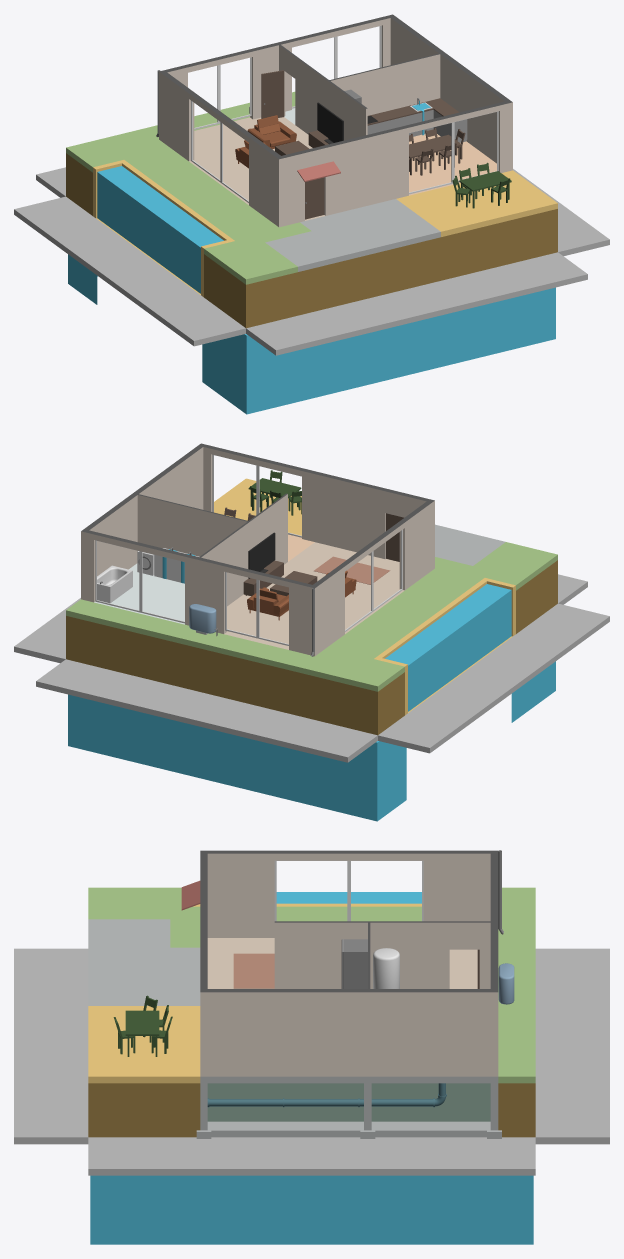
Rendered from POC_Maquette_v2.glb.
3 views of the same model, one above another, from view 1: azimuth 30°, elevation 25°; view 2: azimuth 150°, elevation 25°; view 3: azimuth 270°, elevation 25° (orthographic). The views are drawn at different scales.
Visible parts, largest first — view 1: Terrain, Bordure_maquette, Murs, Eau_exterieur, Cloisons, Eau_piscine, Sol_salon, Sol_cuisine, Plans_de_travail, Piscine, Porte_entree.001, Fauteuil (+6 smaller); view 2: Terrain, Murs, Bordure_maquette, Eau_exterieur, Cloisons, Eau_piscine, Sol_salon, Sol_sdb, Piscine, Baignoire, Tapis, Fauteuil (+7 smaller); view 3: Terrain, Bordure_maquette, Murs, Eau_interieur, Cloisons, Eau_exterieur, Sol_salon, Tuyaux, Eau_piscine, Tapis, Frigo, Chauffe_eau (+4 smaller).
Part boxes in pixels (left/top/right/bottom): Terrain: left=66, top=91, right=557, bottom=328; Bordure_maquette: left=14, top=167, right=609, bottom=355; Murs: left=159, top=14, right=512, bottom=227; Eau_exterieur: left=68, top=254, right=555, bottom=414; Cloisons: left=279, top=44, right=440, bottom=140; Eau_piscine: left=97, top=166, right=223, bottom=293; Sol_salon: left=189, top=117, right=325, bottom=220; Sol_cuisine: left=409, top=134, right=496, bottom=195; Plans_de_travail: left=367, top=98, right=467, bottom=142; Piscine: left=93, top=160, right=234, bottom=297; Porte_entree.001: left=261, top=70, right=284, bottom=118; Fauteuil: left=247, top=115, right=296, bottom=149; Terrain: left=66, top=478, right=557, bottom=735; Murs: left=81, top=443, right=434, bottom=656; Bordure_maquette: left=14, top=574, right=609, bottom=762; Eau_exterieur: left=68, top=661, right=555, bottom=821; Cloisons: left=137, top=493, right=287, bottom=606; Eau_piscine: left=385, top=584, right=511, bottom=711; Sol_salon: left=224, top=542, right=404, bottom=649; Sol_sdb: left=94, top=563, right=184, bottom=624; Piscine: left=374, top=578, right=515, bottom=715; Baignoire: left=97, top=565, right=132, bottom=603; Tapis: left=314, top=556, right=390, bottom=584; Fauteuil: left=247, top=587, right=288, bottom=620; Terrain: left=88, top=887, right=535, bottom=1138; Bordure_maquette: left=14, top=948, right=609, bottom=1175; Murs: left=200, top=850, right=498, bottom=1076; Eau_interieur: left=204, top=1175, right=493, bottom=1244; Cloisons: left=274, top=921, right=490, bottom=988; Eau_exterieur: left=90, top=1175, right=533, bottom=1244; Sol_salon: left=207, top=938, right=477, bottom=988; Tuyaux: left=207, top=1083, right=446, bottom=1107; Eau_piscine: left=276, top=892, right=421, bottom=903; Tapis: left=233, top=953, right=274, bottom=988; Frigo: left=343, top=939, right=367, bottom=988; Chauffe_eau: left=373, top=948, right=399, bottom=988.
Bounding box in the file's own units: 16 × 7.5 × 16.
